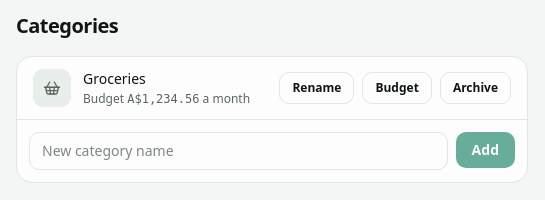
it: CategoryManager › budgets › fills the field with the budget as a plain figure, thousands included
This screenshot has width=545, height=200.
Click the button with aria-label "Budget for Groceries". click: coordinates (397, 88)
box: [362,72,432,104]
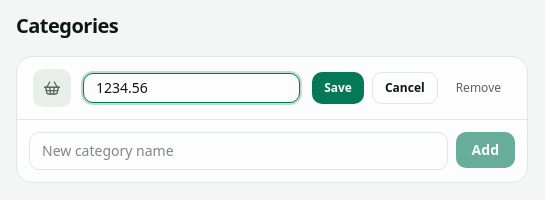
Now the field named "Monthly budget for Groceries" holds "1234.56", box [83,73,300,103]
